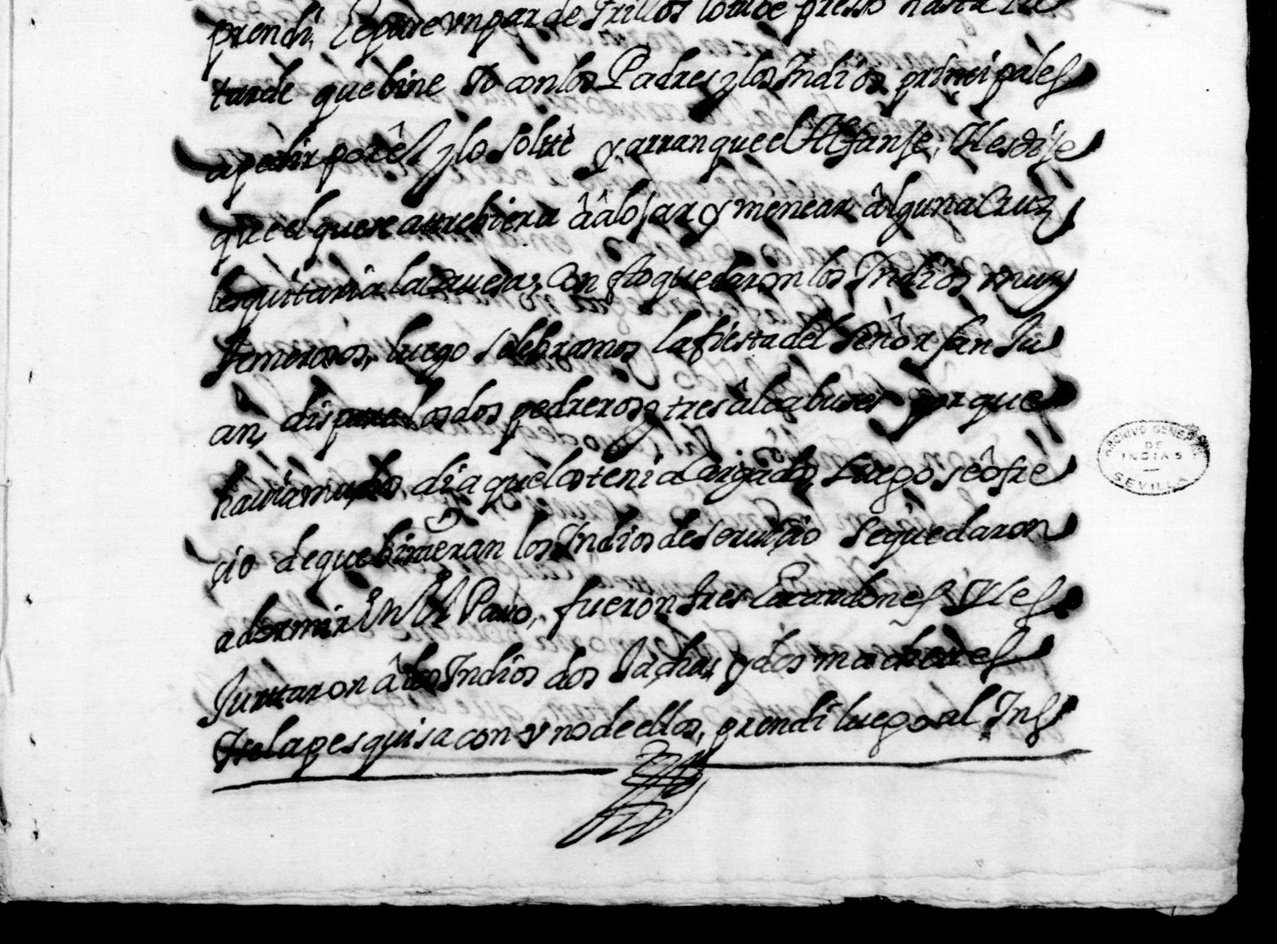lacandon: (748, 560, 956, 627)
